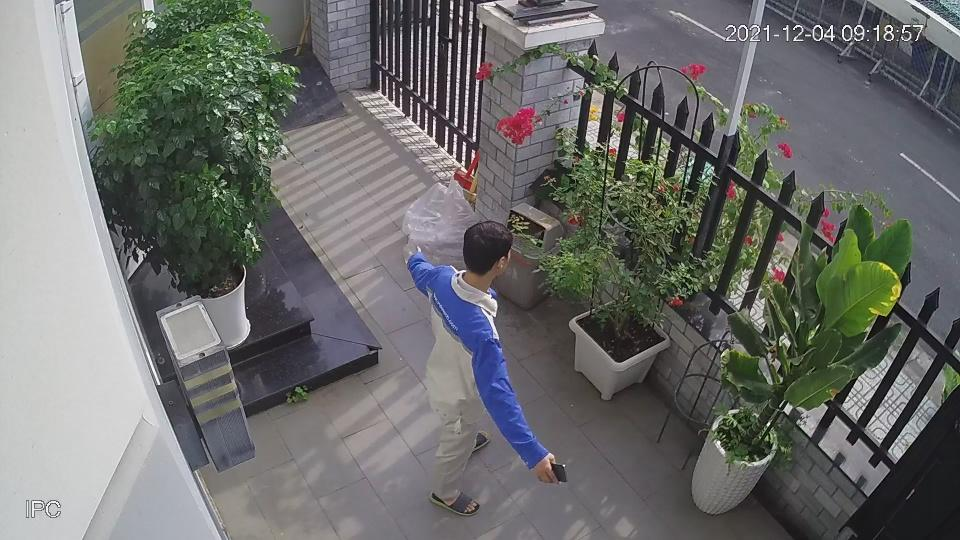person: (411, 223, 567, 513)
